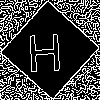H: (25, 25, 64, 72)
